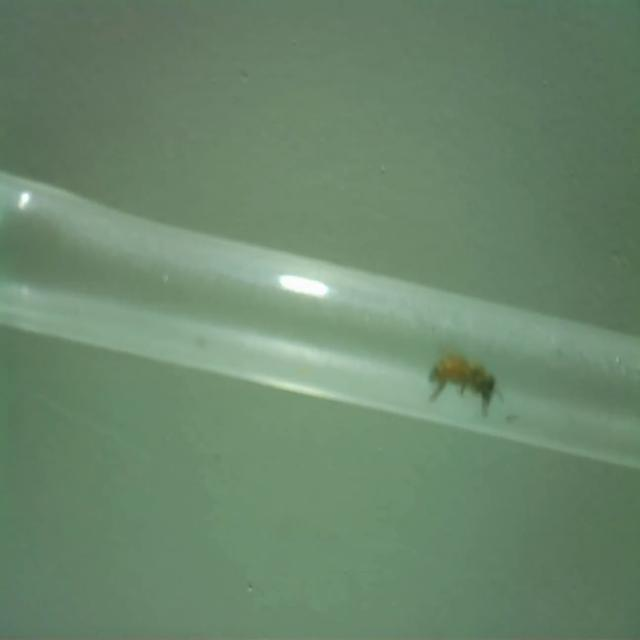Honeybee-Detection: (429, 349, 503, 417)
